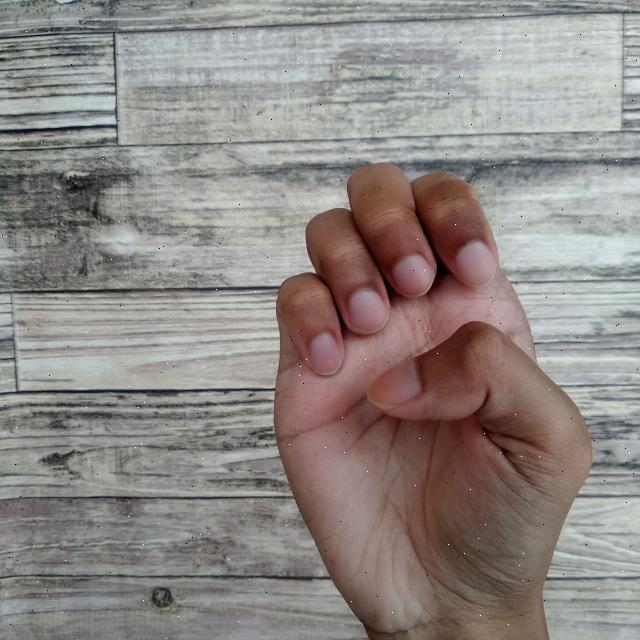E: (271, 161, 591, 640)
